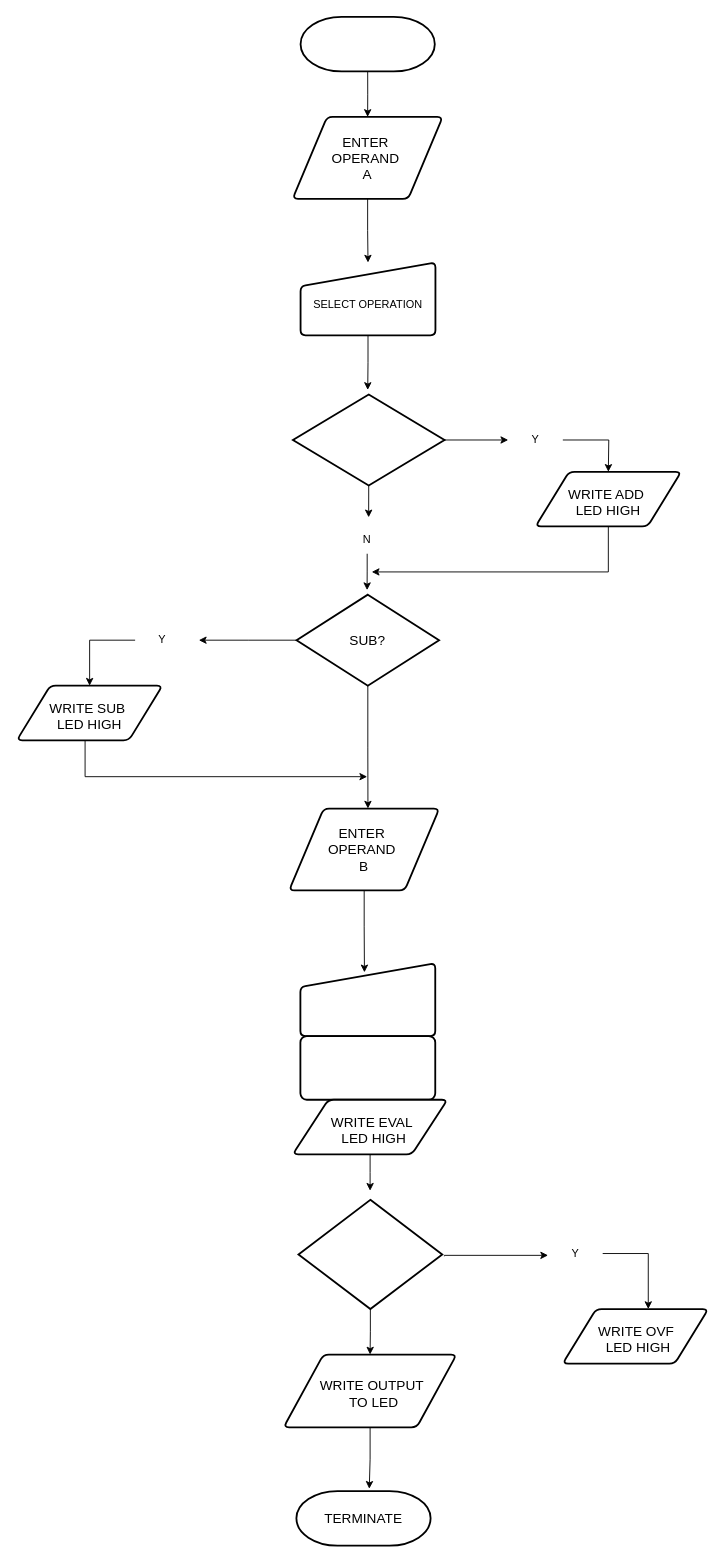
Some shapes in this 724 by 1562 pixel diagram are drawn without their labels. Each missing label, with the centre of its shape:
"ADD?" goes at (368,439).
"BOOT" goes at (367,43).
"DOES ANSWER OVERFLOW?" goes at (370,1253).
"EVALUATE" goes at (367,1067).
"USER PRESS EVALUATE" goes at (367,999).
